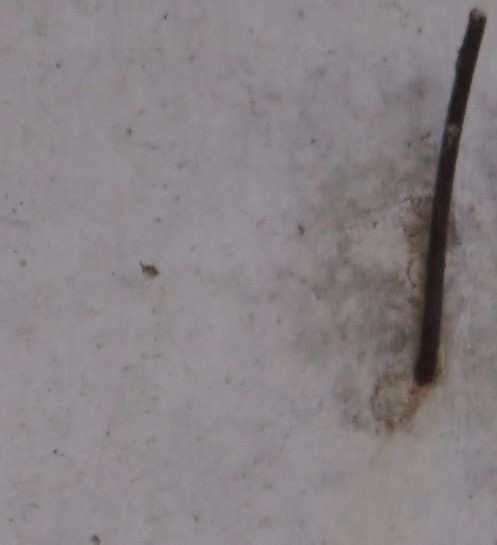Exposed reinforcement: (412, 5, 488, 385)
